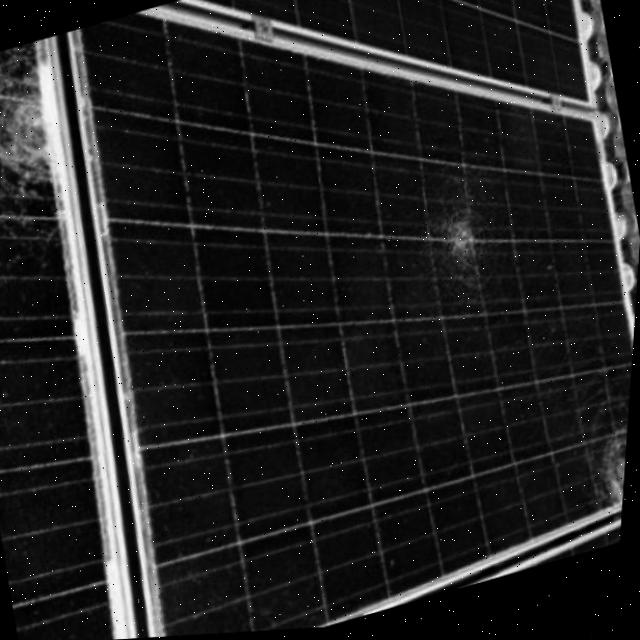Anomaly Solar Panel: (73, 9, 640, 640), (0, 40, 146, 640)
Normal Solar Panel: (178, 0, 592, 112), (509, 530, 630, 581)
Structural Damage: (0, 44, 68, 236), (435, 194, 512, 300), (603, 432, 635, 516)
